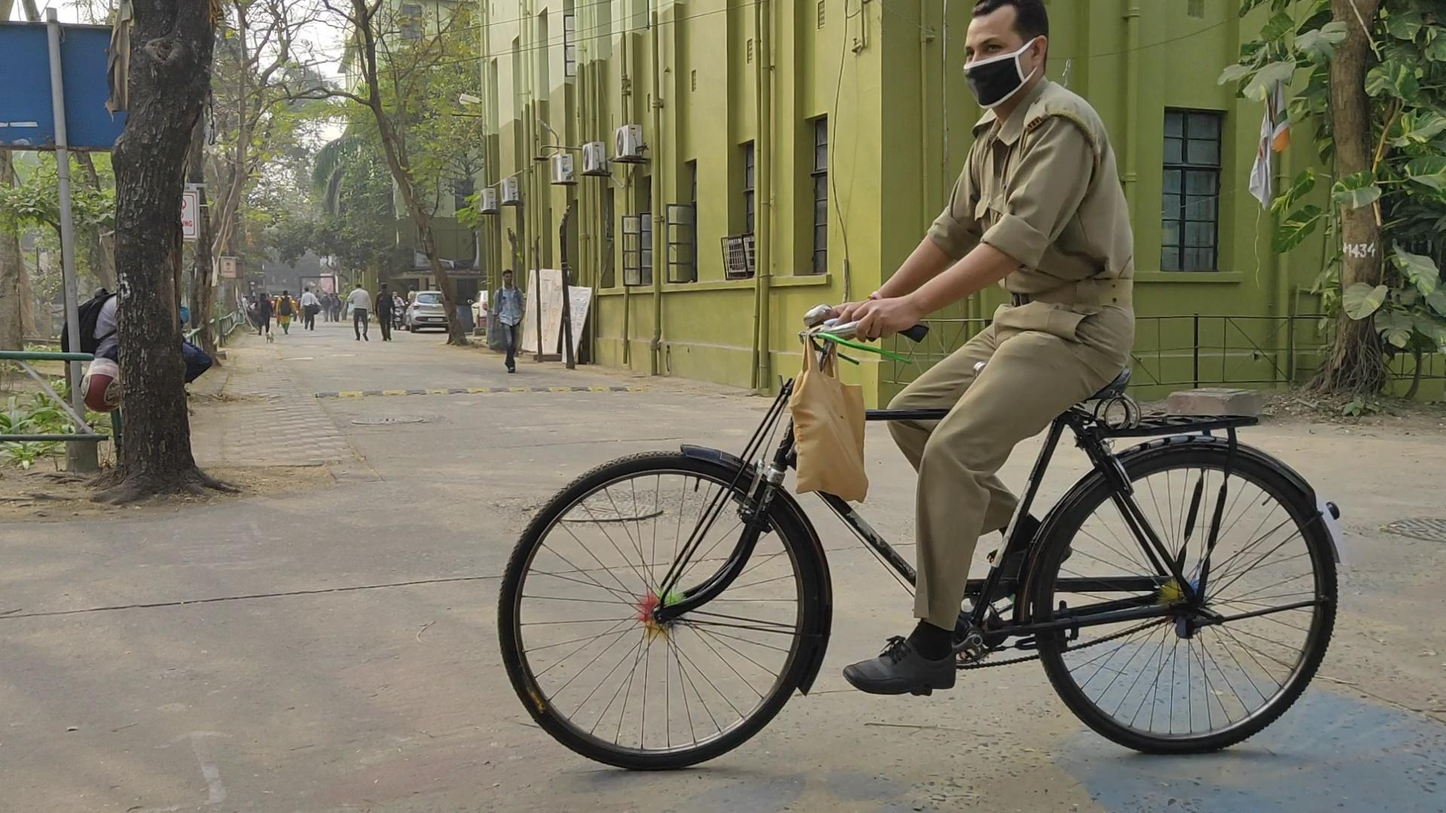bike: (495, 5, 1344, 770)
car: (404, 290, 450, 333)
